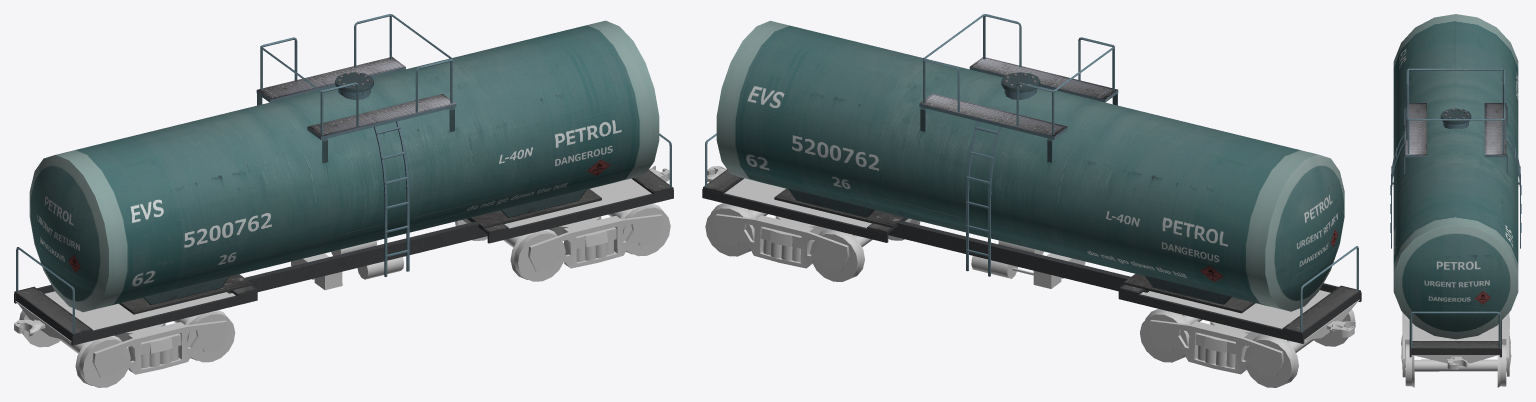
The model's file is TrainTanker04.FBX.
3 views of the same model, side by side, from view 1: azimuth 30°, elevation 25°; view 2: azimuth 150°, elevation 25°; view 3: azimuth 270°, elevation 25° (orthographic). The views are drawn at different scales.
Visible parts, largest first — view 1: TrainTanker04, TrainTanker04Wheels, TrainTanker0DetailBlack, TrainTanker04Down; view 2: TrainTanker04, TrainTanker04Wheels, TrainTanker0DetailBlack, TrainTanker04Down; view 3: TrainTanker04, TrainTanker04Wheels, TrainTanker0DetailBlack, TrainTanker04Down.
Boxes of the visible parts, x1,y1,x2,y2 form: TrainTanker04: [16, 14, 671, 333]; TrainTanker04Wheels: [19, 203, 670, 387]; TrainTanker0DetailBlack: [14, 170, 673, 345]; TrainTanker04Down: [14, 165, 669, 341]; TrainTanker04: [705, 14, 1358, 332]; TrainTanker04Wheels: [705, 203, 1355, 387]; TrainTanker0DetailBlack: [702, 169, 1361, 343]; TrainTanker04Down: [707, 166, 1359, 340]; TrainTanker04: [1390, 14, 1521, 348]; TrainTanker04Wheels: [1401, 312, 1511, 387]; TrainTanker0DetailBlack: [1409, 320, 1501, 357]; TrainTanker04Down: [1412, 323, 1498, 369].
Bounding box in the file's own units: 19420 × 7027 × 4327.
